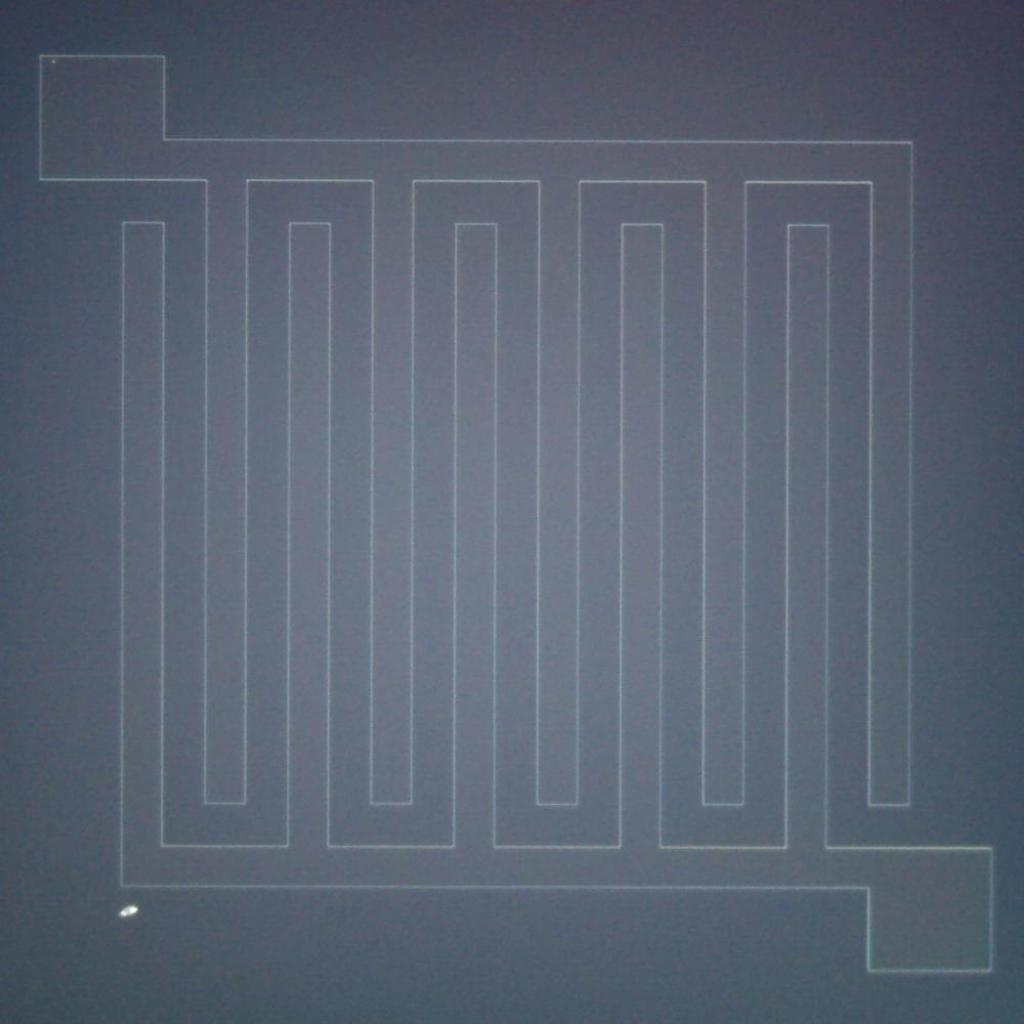dot: (119, 902, 139, 921), (718, 262, 723, 267), (52, 60, 56, 65)
